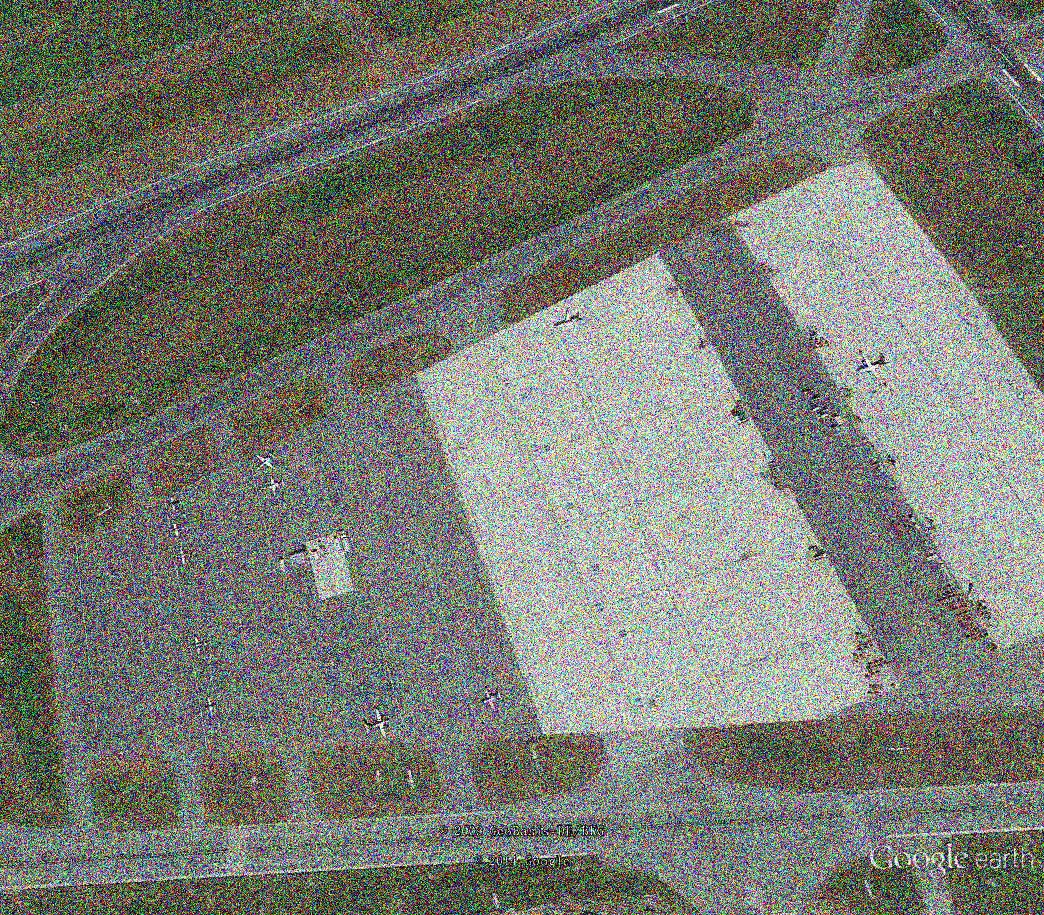aircraft: (855, 349, 894, 389), (361, 705, 393, 744), (550, 307, 587, 338), (478, 686, 508, 714), (261, 473, 287, 502), (252, 449, 282, 473), (204, 694, 223, 723), (190, 634, 209, 660), (175, 544, 192, 569), (165, 495, 185, 514), (168, 520, 188, 539)
